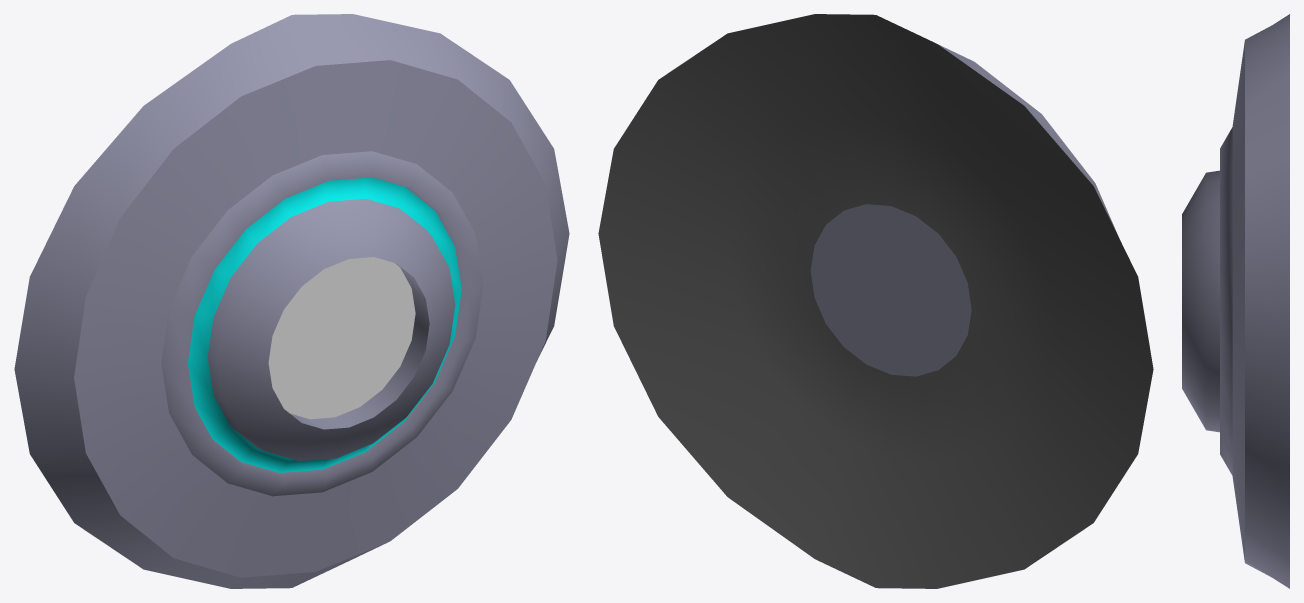
The model's file is Weapon_Round_Shield.fbx.
3 views of the same model, side by side, from view 1: azimuth 30°, elevation 25°; view 2: azimuth 150°, elevation 25°; view 3: azimuth 270°, elevation 25° (orthographic). The views are drawn at different scales.
Visible parts, largest first — view 1: pCylinder1; view 2: pCylinder1; view 3: pCylinder1.
Part boxes in pixels (box(x1,y1,x2,y2)): pCylinder1: box(14, 14, 569, 588); pCylinder1: box(598, 14, 1153, 588); pCylinder1: box(1182, 14, 1289, 588).
Size of the model in its own units: 2.38 by 2.35 by 0.4249.
